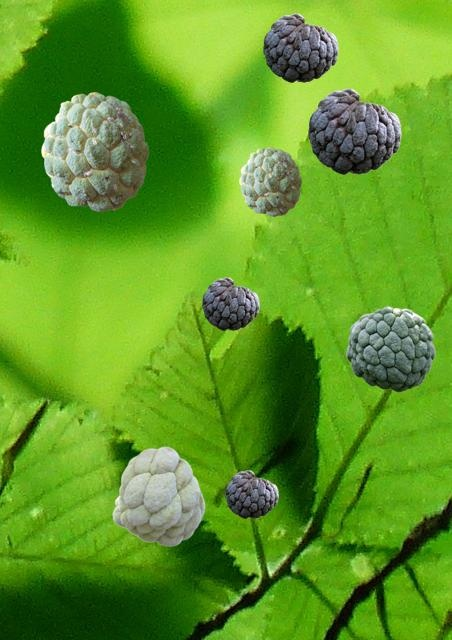atis: (41, 92, 147, 210), (112, 446, 204, 545), (308, 88, 400, 173), (346, 306, 434, 391), (263, 13, 337, 81), (239, 147, 300, 215), (202, 277, 258, 329), (225, 470, 277, 517)
